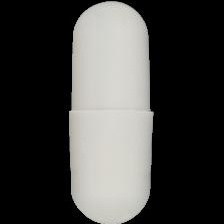63187-287: (0, 0, 224, 224)
